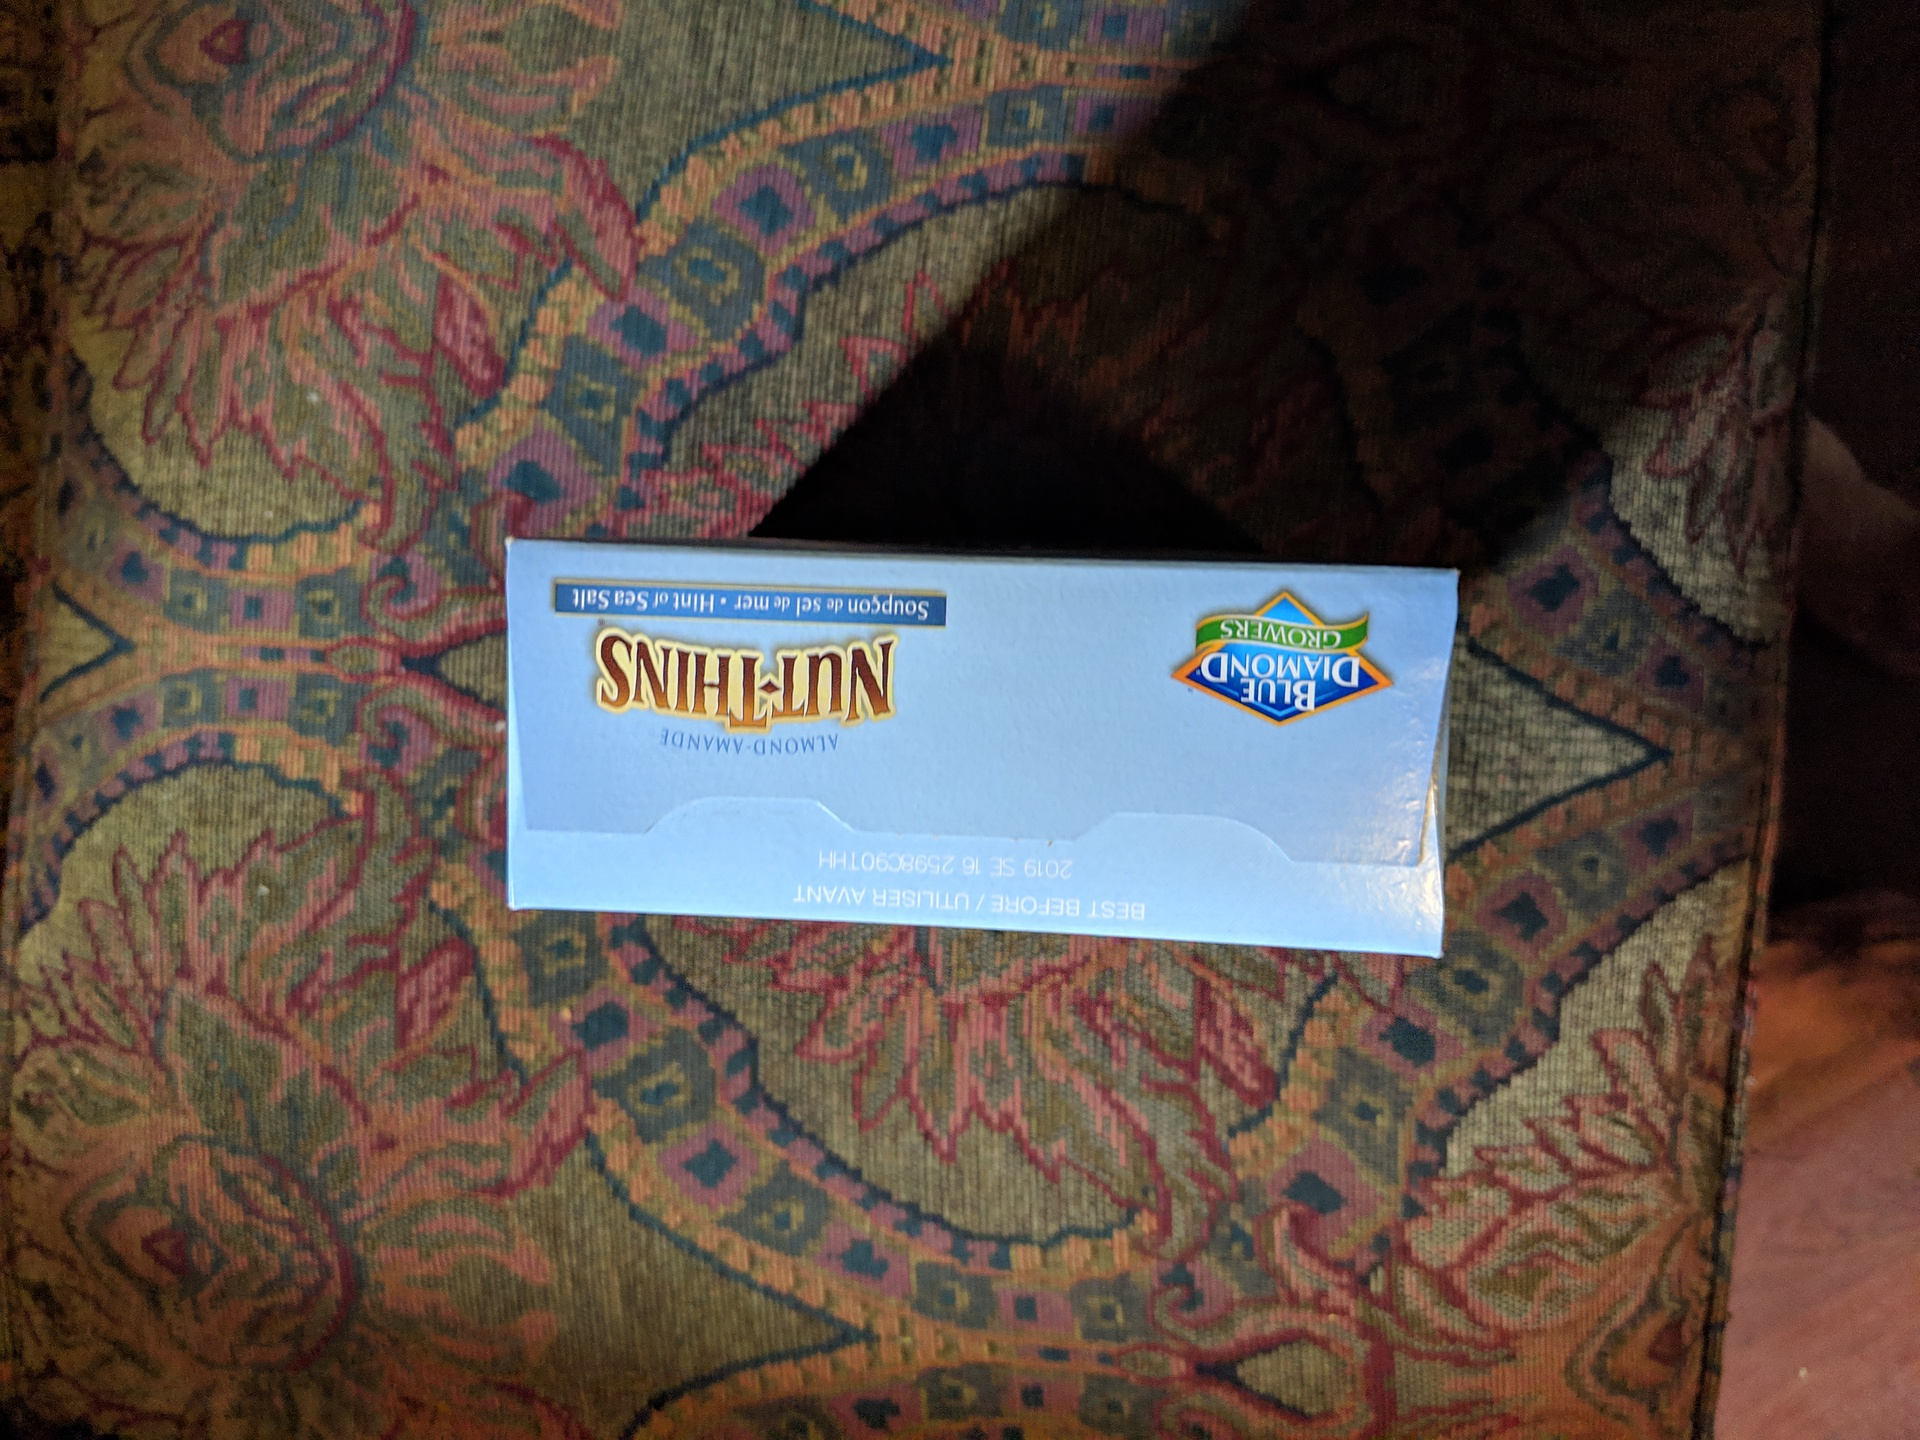blue_diamond_nut_thins_almond_seasalt: (513, 546, 1445, 930)
